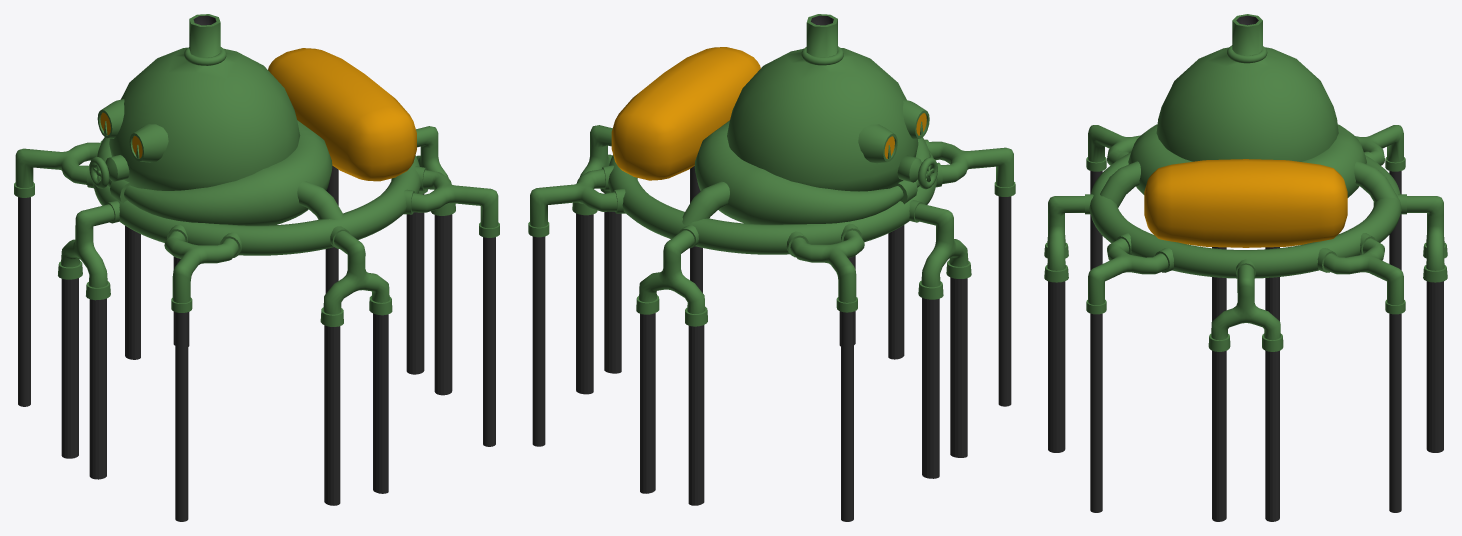
Rendered from OctoPump.fbx.
3 views of the same model, side by side, from view 1: azimuth 30°, elevation 25°; view 2: azimuth 150°, elevation 25°; view 3: azimuth 270°, elevation 25° (orthographic). The views are drawn at different scales.
Visible parts, largest first — view 1: GD_mesh, Wye Joint.001, Wye Joint.002, Cube.014, Wye Joint.003, BézierCurve.001, NurbsCircle, Cylinder.007, Elbow Joint.001, Cylinder.008; view 2: GD_mesh, Wye Joint.001, Wye Joint.002, Cube.014, Wye Joint.003, BézierCurve.001, NurbsCircle, Cylinder.007, Elbow Joint.001, Cylinder.008; view 3: GD_mesh, Cube.014, Wye Joint.001, Wye Joint.003, Wye Joint.002, NurbsCircle, BézierCurve.001, Elbow Joint.001.
Part boxes in pixels (x1,y1,x2,y2): GD_mesh: [109, 14, 300, 190]; Wye Joint.001: [14, 141, 499, 521]; Wye Joint.002: [58, 126, 455, 479]; Cube.014: [268, 48, 416, 181]; Wye Joint.003: [125, 226, 392, 505]; BézierCurve.001: [97, 120, 332, 225]; NurbsCircle: [92, 155, 420, 255]; Cylinder.007: [97, 99, 168, 162]; Elbow Joint.001: [297, 181, 343, 219]; Cylinder.008: [93, 155, 129, 181]; GD_mesh: [727, 14, 918, 191]; Wye Joint.001: [528, 139, 1015, 521]; Wye Joint.002: [572, 125, 971, 478]; Cube.014: [611, 47, 760, 180]; Wye Joint.003: [636, 225, 904, 505]; BézierCurve.001: [694, 120, 930, 224]; NurbsCircle: [608, 150, 937, 254]; Cylinder.007: [858, 99, 929, 163]; Elbow Joint.001: [682, 181, 729, 225]; Cylinder.008: [897, 155, 934, 182]; GD_mesh: [1156, 14, 1338, 161]; Cube.014: [1144, 159, 1347, 247]; Wye Joint.001: [1086, 125, 1405, 512]; Wye Joint.003: [1044, 194, 1447, 452]; Wye Joint.002: [1208, 247, 1283, 521]; NurbsCircle: [1089, 152, 1401, 278]; BézierCurve.001: [1128, 124, 1366, 197]; Elbow Joint.001: [1100, 161, 1398, 207].
Size of the model in its own units: 1392 by 1392 by 1503.
